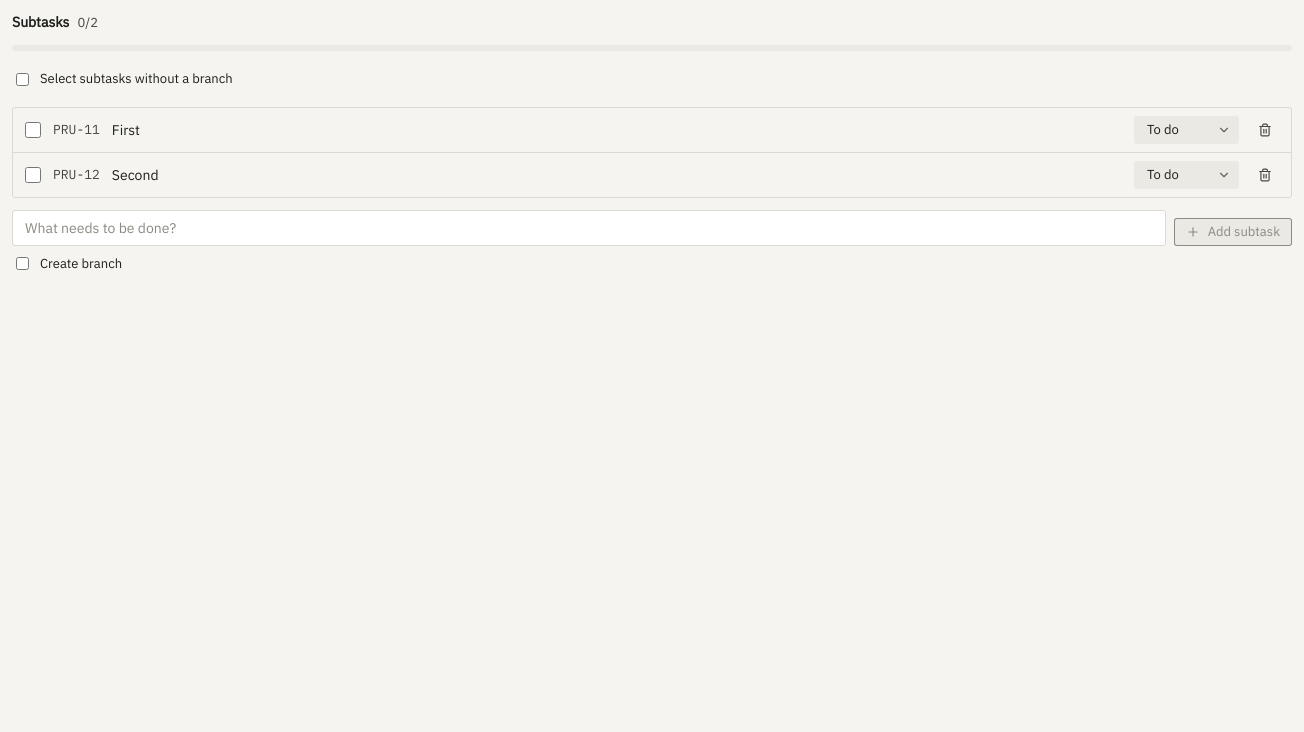
Test: Subtasks › branches for several subtasks › creates one branch after the other with the suggested names
Click the checkbox named "Select PRU-11" at (33, 130), box left=25, top=122, right=41, bottom=138
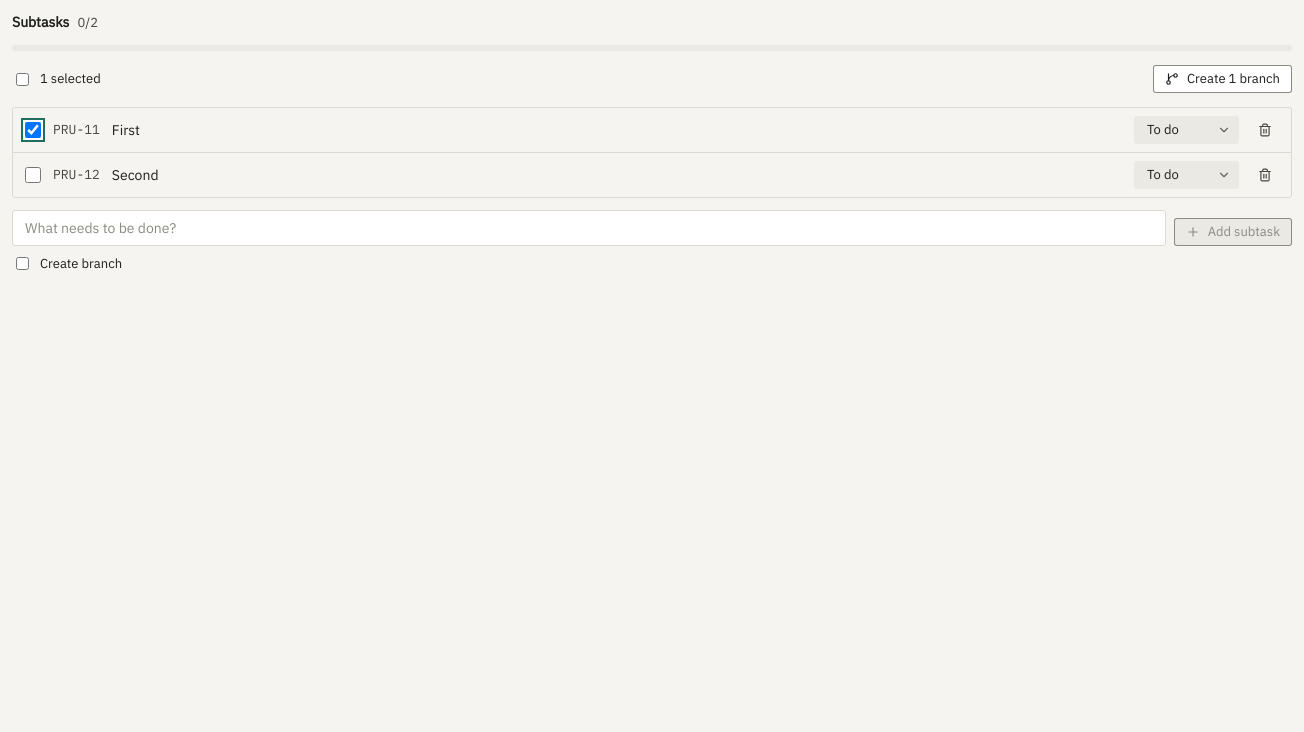
Click the checkbox named "Select PRU-12" at (33, 175), box left=25, top=167, right=41, bottom=183
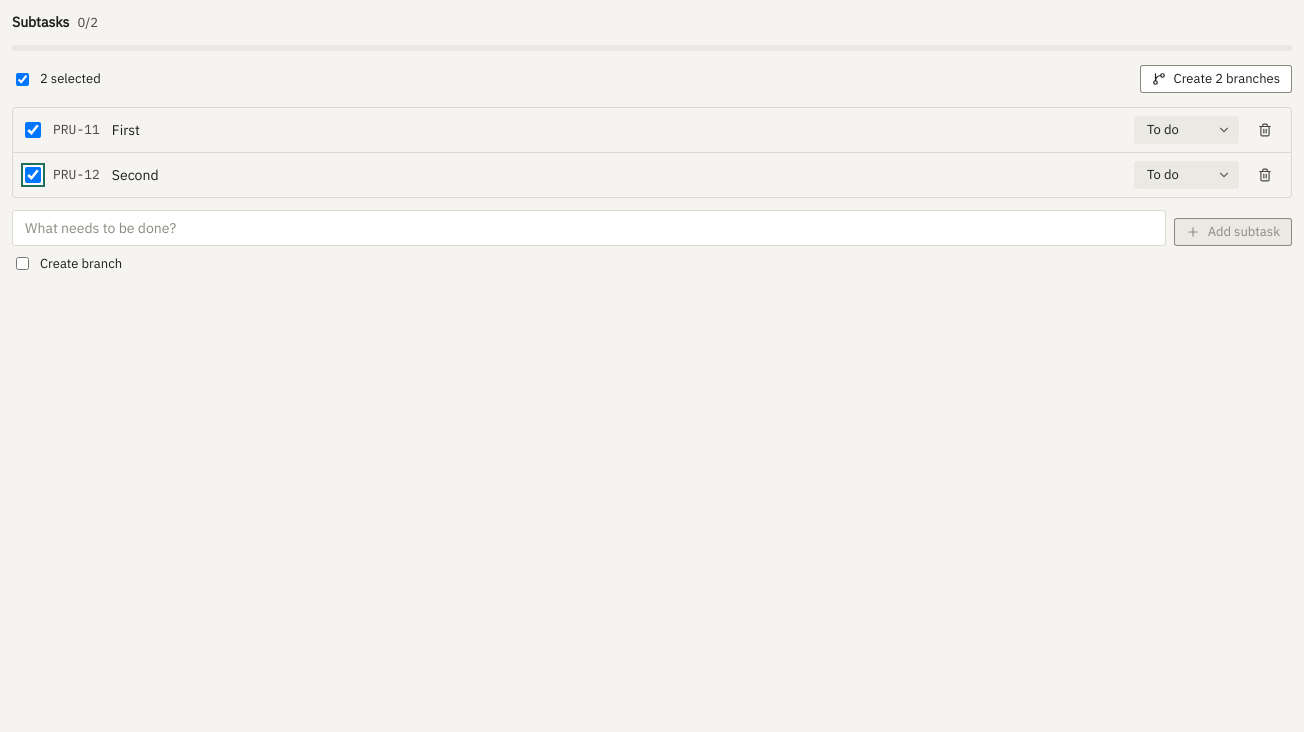
Click the button "Create 2 branches" at (1216, 79), box left=1140, top=65, right=1292, bottom=93
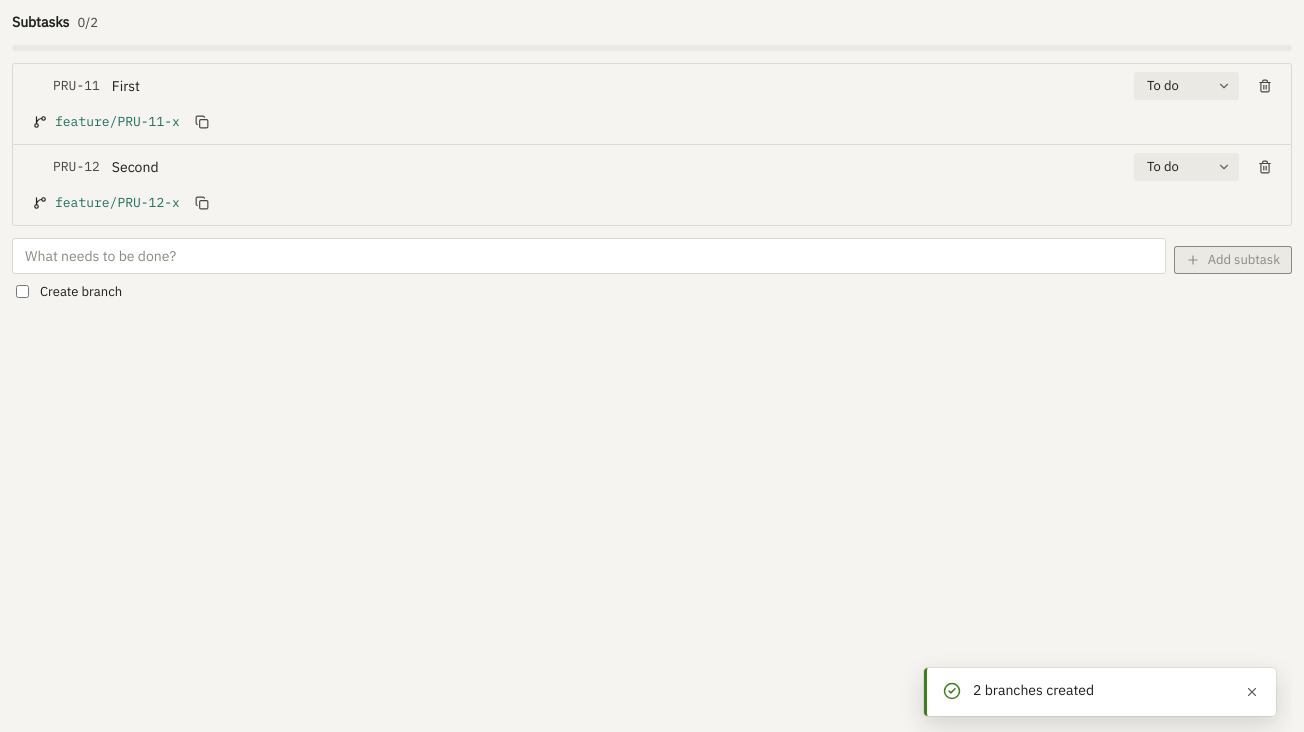
Expected: the text "2 branches created" is shown, left=973, top=681, right=1094, bottom=699
Expected: the link "feature/PRU-11-x" is shown, left=55, top=112, right=180, bottom=132
Expected: the link "feature/PRU-12-x" is shown, left=55, top=193, right=180, bottom=213
